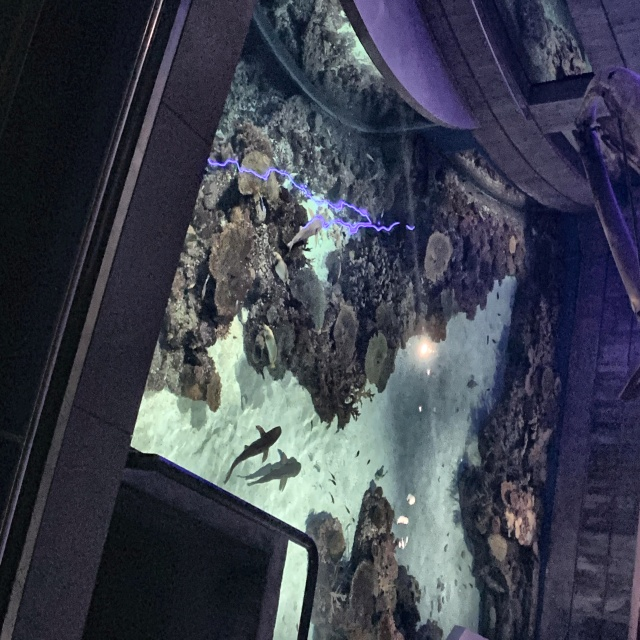fish: (262, 325, 277, 368), (272, 252, 287, 282), (256, 191, 265, 213)
shark: (223, 424, 282, 486), (249, 449, 302, 492), (288, 210, 328, 251)
